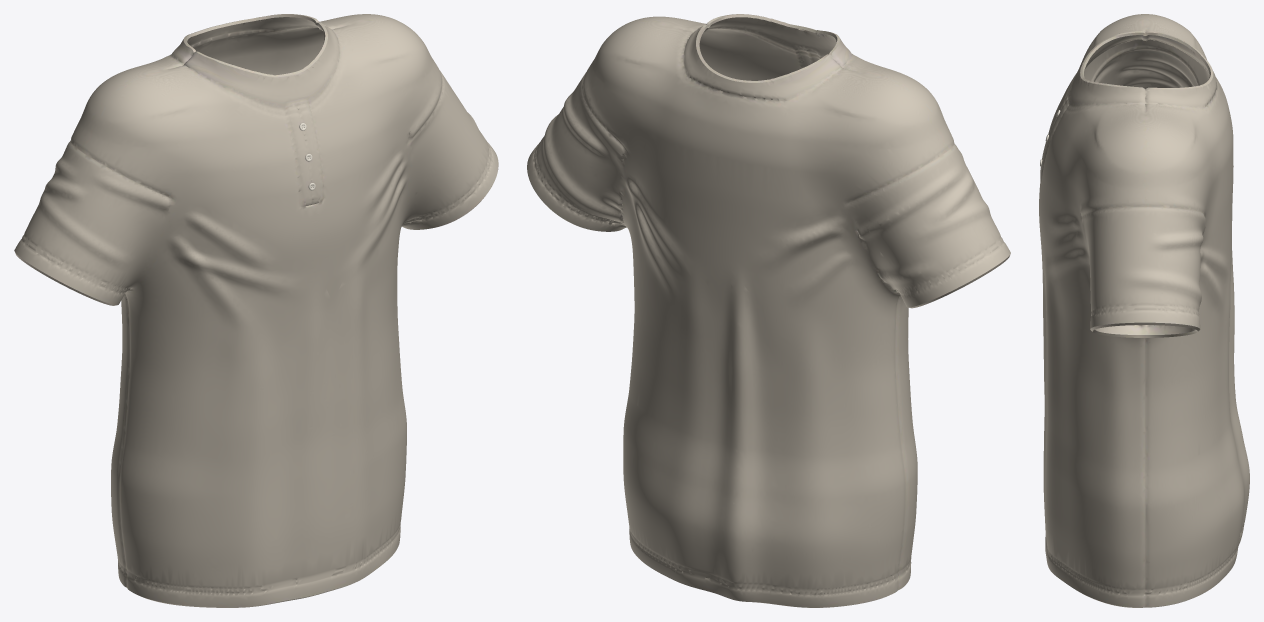
Rendered from 10_camiseta_henley_pbr.glb.
The picture shows the model from 3 angles, left to right: view 1: azimuth 30°, elevation 25°; view 2: azimuth 150°, elevation 25°; view 3: azimuth 270°, elevation 25°; orthographic projection. The views are drawn at different scales.
Visible parts, largest first — view 1: Camiseta PBR; view 2: Camiseta PBR; view 3: Camiseta PBR.
Part boxes in pixels (<box>): Camiseta PBR: <box>14,14,498,607</box>; Camiseta PBR: <box>527,14,1010,607</box>; Camiseta PBR: <box>1039,14,1249,607</box>.
Bounding box in the file's own units: 0.6856 × 0.7356 × 0.2869.
Materials: 2 (1 with a texture image).
